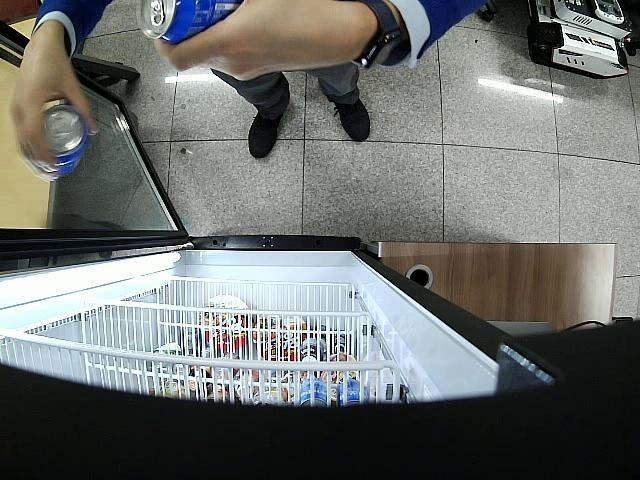13_pocariSweat: (136, 1, 245, 44), (40, 105, 90, 178)
